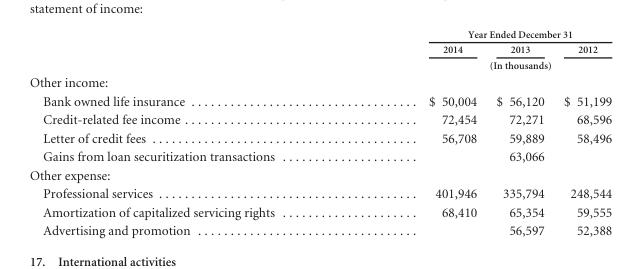table: (28, 28, 611, 237)
table column: (28, 28, 351, 237), (351, 28, 485, 237), (485, 28, 553, 237), (553, 28, 611, 237)
table column header: (28, 28, 611, 72)
table projected row header: (28, 72, 611, 91), (28, 165, 611, 184)
table row: (28, 72, 611, 91), (28, 91, 611, 110), (28, 128, 611, 147), (28, 165, 611, 184), (28, 202, 611, 221), (28, 110, 611, 128), (28, 147, 611, 165), (28, 184, 611, 202), (28, 41, 611, 57), (28, 221, 611, 237), (28, 57, 611, 72), (28, 28, 611, 41)
table spanning cell: (351, 57, 611, 72), (351, 28, 611, 41)
